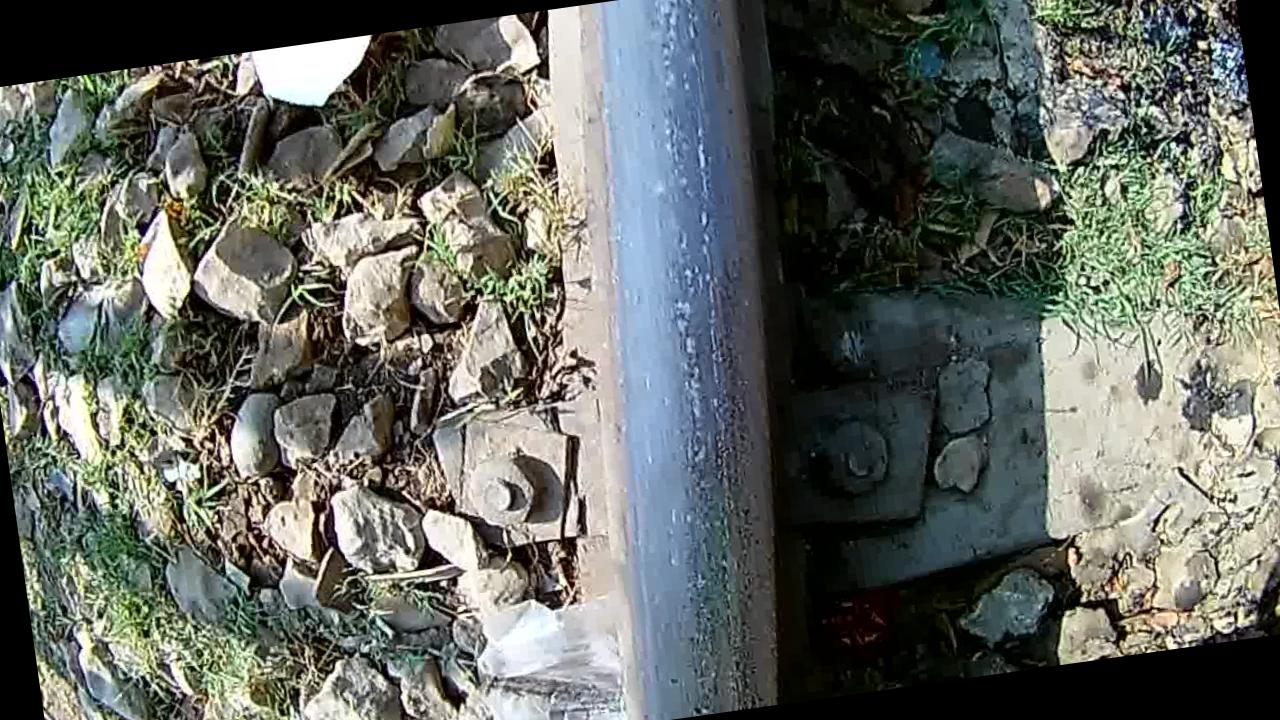clip_missing: (567, 0, 809, 718)
